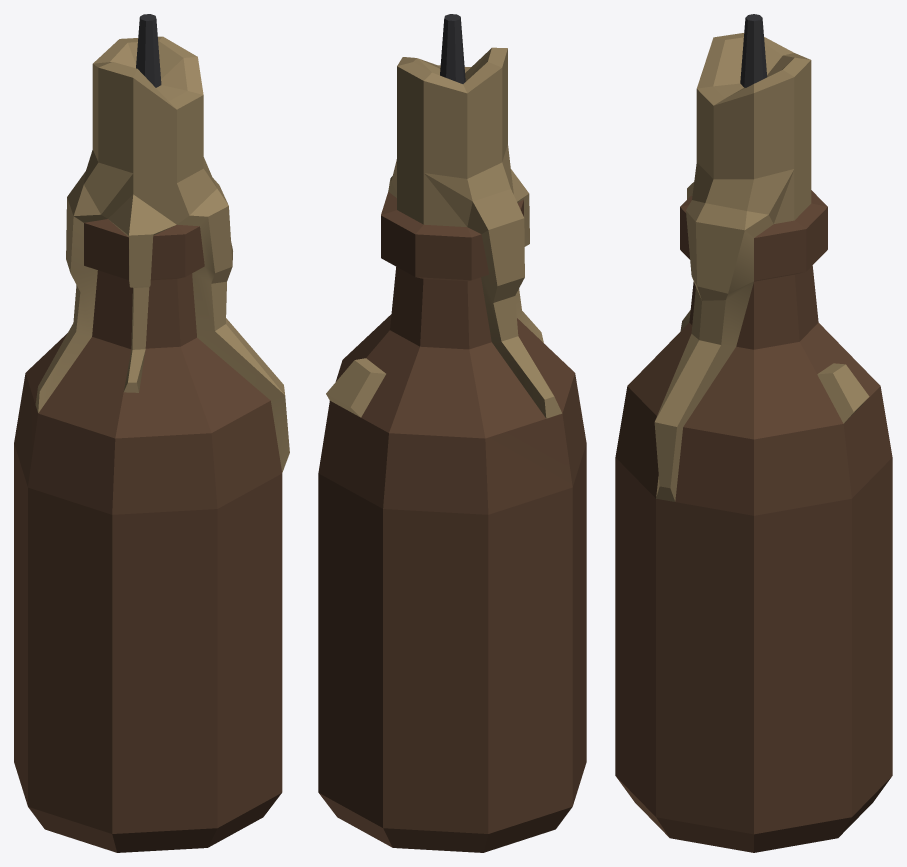
Rendered from SM_Item_Bottle_Candle_01.glb.
3 views of the same model, side by side, from view 1: azimuth 30°, elevation 25°; view 2: azimuth 150°, elevation 25°; view 3: azimuth 270°, elevation 25° (orthographic).
Visible parts, largest first — view 1: SM_Item_Bottle_Candle_01; view 2: SM_Item_Bottle_Candle_01; view 3: SM_Item_Bottle_Candle_01.
Boxes of the visible parts, box(x1,y1,x2,y2) form: SM_Item_Bottle_Candle_01: box(14, 14, 289, 852); SM_Item_Bottle_Candle_01: box(318, 14, 586, 852); SM_Item_Bottle_Candle_01: box(615, 14, 892, 852).
Bounding box in the file's own units: 0.00129 × 0.00402 × 0.00129.
